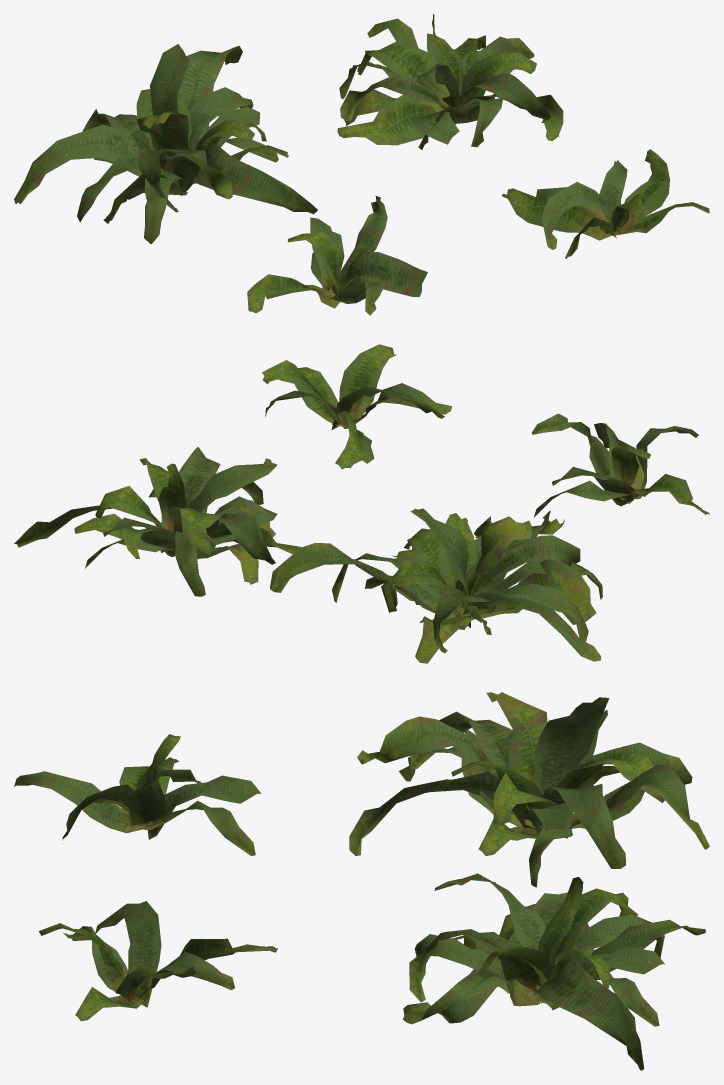
Rendered from fern_02.glb.
The picture shows the model from 3 angles, top to bottom: view 1: azimuth 30°, elevation 25°; view 2: azimuth 150°, elevation 25°; view 3: azimuth 270°, elevation 25°; orthographic projection. The views are drawn at different scales.
Visible parts, largest first — view 1: fern_02_b; view 2: fern_02_b; view 3: fern_02_b.
Part boxes in pixels (left/top/right/bottom): fern_02_b: left=14, top=14, right=709, bottom=315; fern_02_b: left=14, top=344, right=709, bottom=663; fern_02_b: left=14, top=692, right=709, bottom=1070.
Size of the model in its own units: 1.97 by 0.4276 by 1.72.
1 material, 1 textured.
